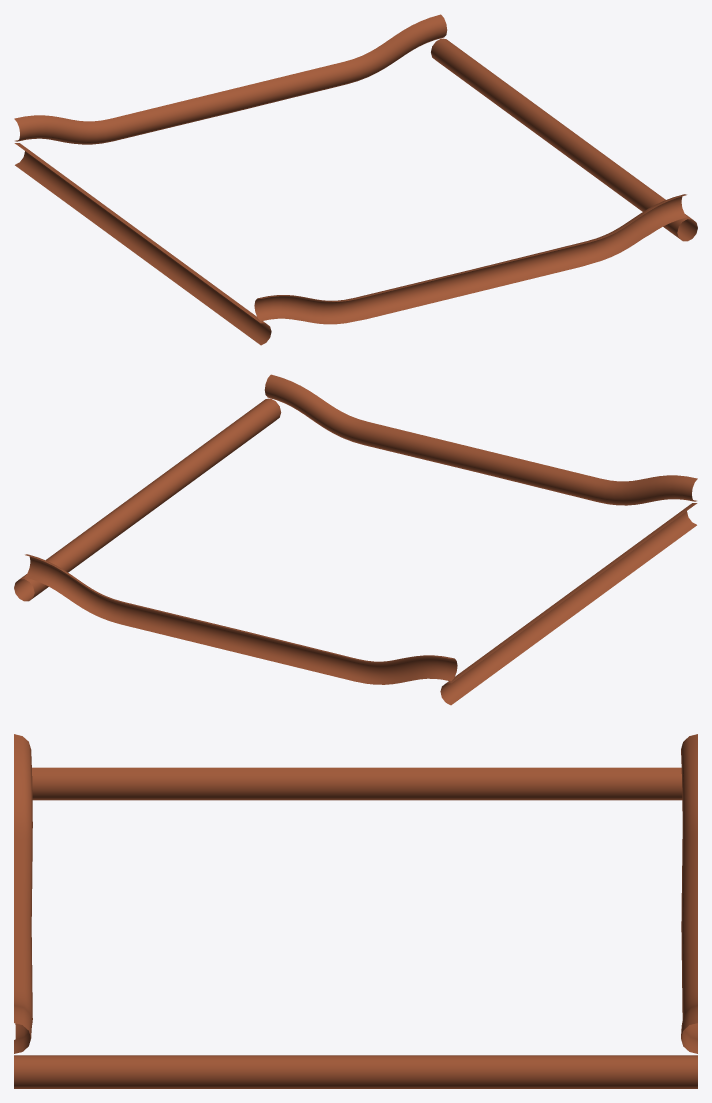
The model's file is SM_tileSol_Border_Side.fbx.
3 views of the same model, one above another, from view 1: azimuth 30°, elevation 25°; view 2: azimuth 150°, elevation 25°; view 3: azimuth 270°, elevation 25° (orthographic). The views are drawn at different scales.
Parts seen in each view (by area): view 1: SM_tileSol_Border_Side; view 2: SM_tileSol_Border_Side; view 3: SM_tileSol_Border_Side.
Part boxes in pixels (left/top/right/bottom): SM_tileSol_Border_Side: left=14, top=14, right=697, bottom=345; SM_tileSol_Border_Side: left=14, top=374, right=697, bottom=705; SM_tileSol_Border_Side: left=14, top=734, right=697, bottom=1088.
Size of the model in its own units: 205 by 20.84 by 200.
